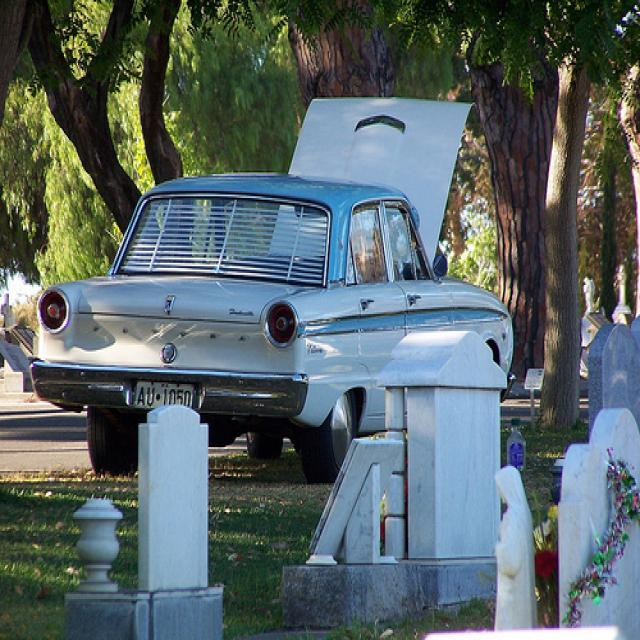Car: (34, 99, 498, 469)
